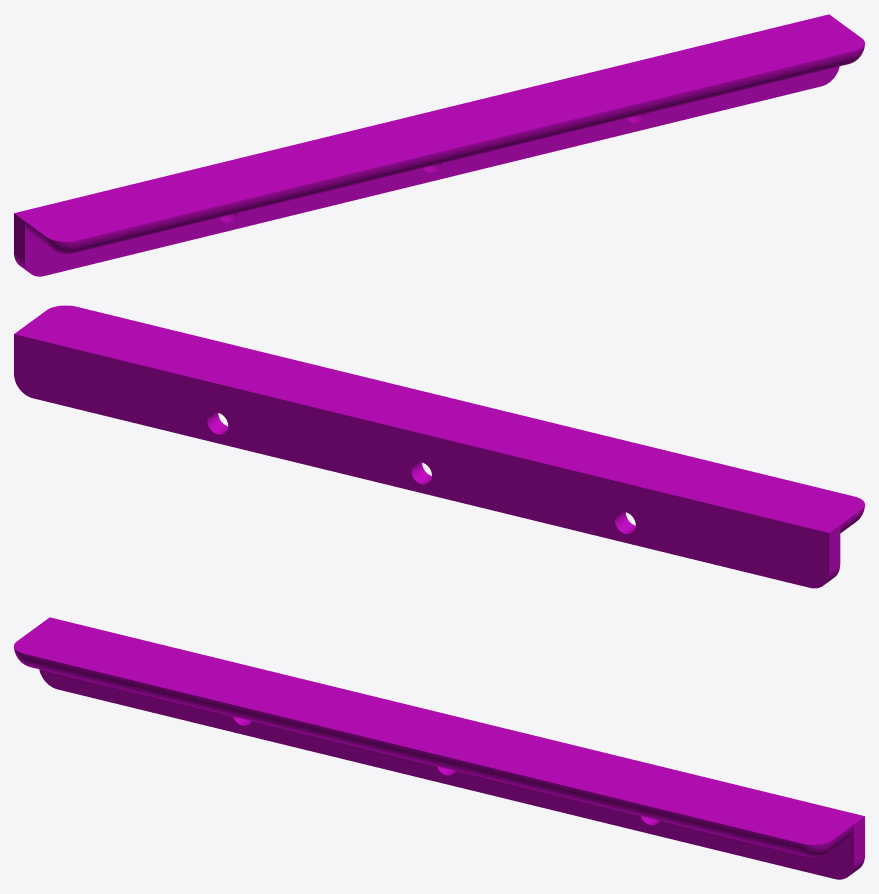
File: _2025_Lunabotics_Hopper_Latch_Lip.obj
3 renders of one model, top to bottom at view 1: azimuth 30°, elevation 25°; view 2: azimuth 150°, elevation 25°; view 3: azimuth 330°, elevation 25°, orthographic.
Parts seen in each view (by area): view 1: mesh1117, mesh1113, mesh1118; view 2: mesh1105, mesh1117; view 3: mesh1117, mesh1113, mesh1118.
Boxes of the visible parts, bbox=[...] form: mesh1117: bbox=[14, 14, 864, 241]; mesh1113: bbox=[25, 66, 839, 276]; mesh1118: bbox=[72, 51, 853, 253]; mesh1105: bbox=[14, 334, 829, 588]; mesh1117: bbox=[14, 305, 864, 532]; mesh1117: bbox=[14, 617, 864, 844]; mesh1113: bbox=[39, 669, 853, 879]; mesh1118: bbox=[25, 654, 806, 856].
Bounding box in the file's own units: 0.2731 × 0.0191 × 0.0254.
